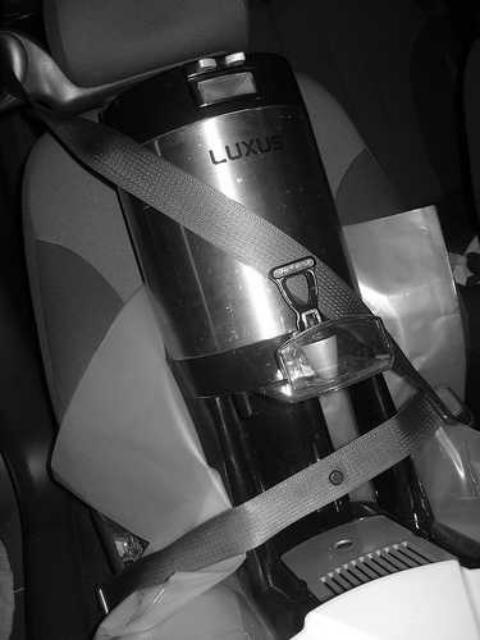Seatbelt: (18, 92, 470, 574)
